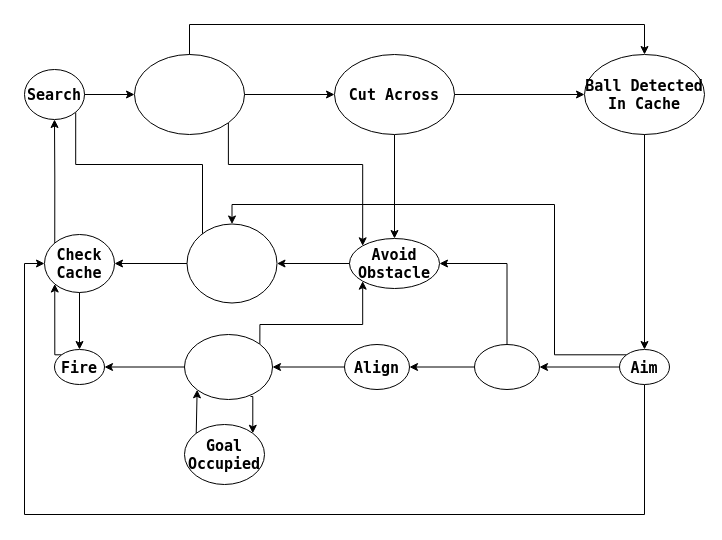
Some shapes in this 722 by 540 pixel diagram are drawn without their labels. Here are the shapes that lost their labels. From the top down, the centre of each, then its label:
At pixel 189 94: "Follow Wall".
At pixel 231 263: "Calibrate Position".
At pixel 228 367: "Firing Position".
At pixel 507 367: "Find Line".
